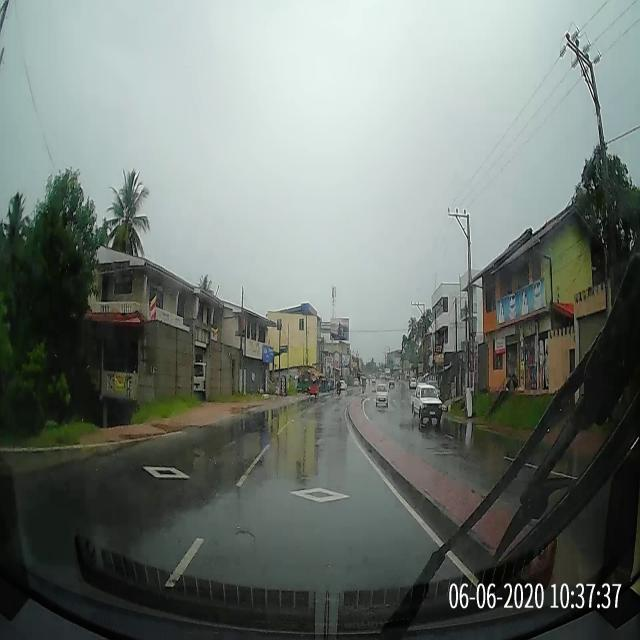diamond: (233, 477, 420, 516)
